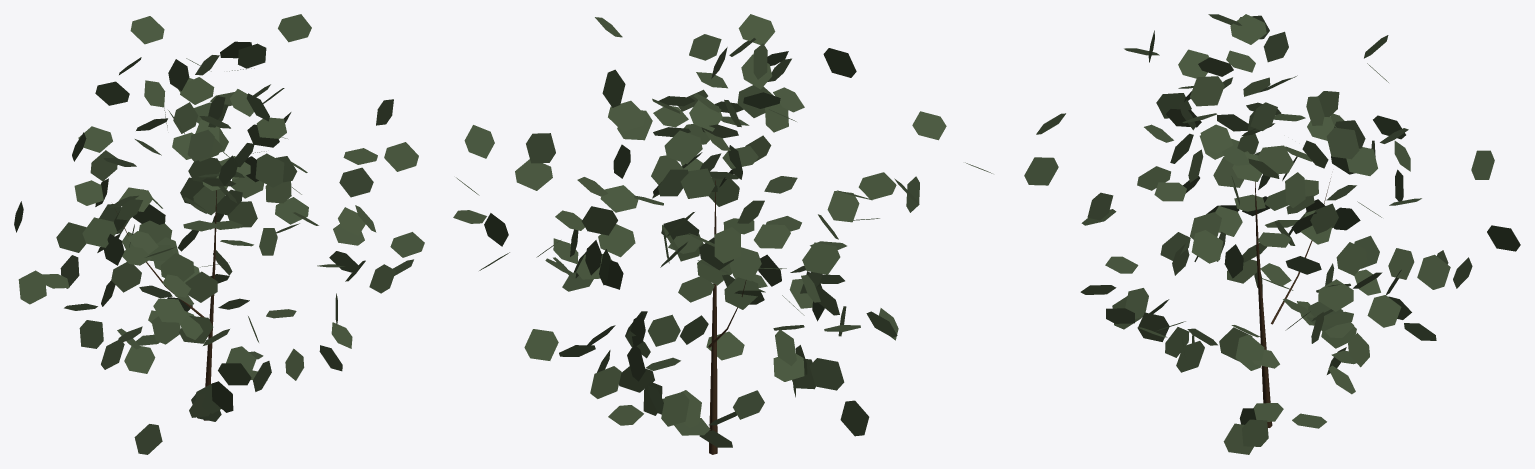
Rendered from bush-leaves-lod1.glb.
The picture shows the model from 3 angles, left to right: view 1: azimuth 30°, elevation 25°; view 2: azimuth 150°, elevation 25°; view 3: azimuth 270°, elevation 25°; orthographic projection. The views are drawn at different scales.
Parts seen in each view (by area): view 1: v_leaves; view 2: v_leaves; view 3: v_leaves.
Boxes of the visible parts, x1=… form: v_leaves: x1=14, y1=14, x2=424, y2=454; v_leaves: x1=453, y1=14, x2=992, y2=454; v_leaves: x1=1024, y1=14, x2=1520, y2=454.
Bounding box in the file's own units: 4.3 × 3.95 × 4.37.
